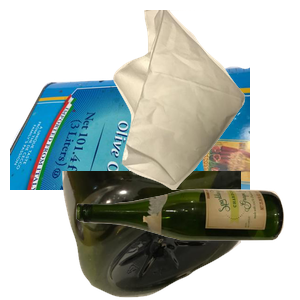glass: (74, 186, 300, 300)
metal: (10, 64, 250, 244)
plastic: (60, 171, 300, 300)
trash: (111, 10, 300, 190)
